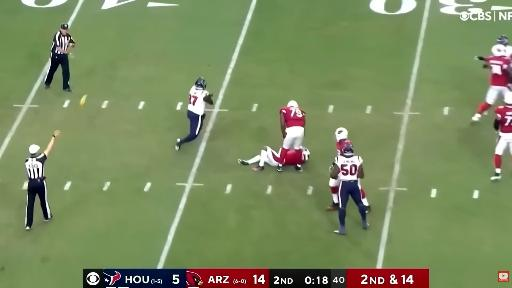Helmet: (335, 128, 347, 141), (492, 45, 506, 56), (301, 147, 310, 161), (342, 144, 353, 155), (195, 78, 206, 89), (496, 35, 508, 45), (505, 90, 512, 107), (287, 101, 298, 107)
Jersey: (335, 155, 362, 181), (488, 56, 511, 86), (188, 86, 208, 115), (495, 106, 511, 138), (280, 107, 305, 127), (284, 150, 305, 165), (336, 139, 353, 155), (505, 46, 512, 57)
Player: (331, 144, 368, 234), (472, 44, 511, 121), (176, 78, 213, 150), (278, 101, 305, 171), (491, 92, 511, 180), (238, 147, 309, 170), (327, 179, 339, 210), (495, 35, 511, 57), (496, 35, 511, 56)
